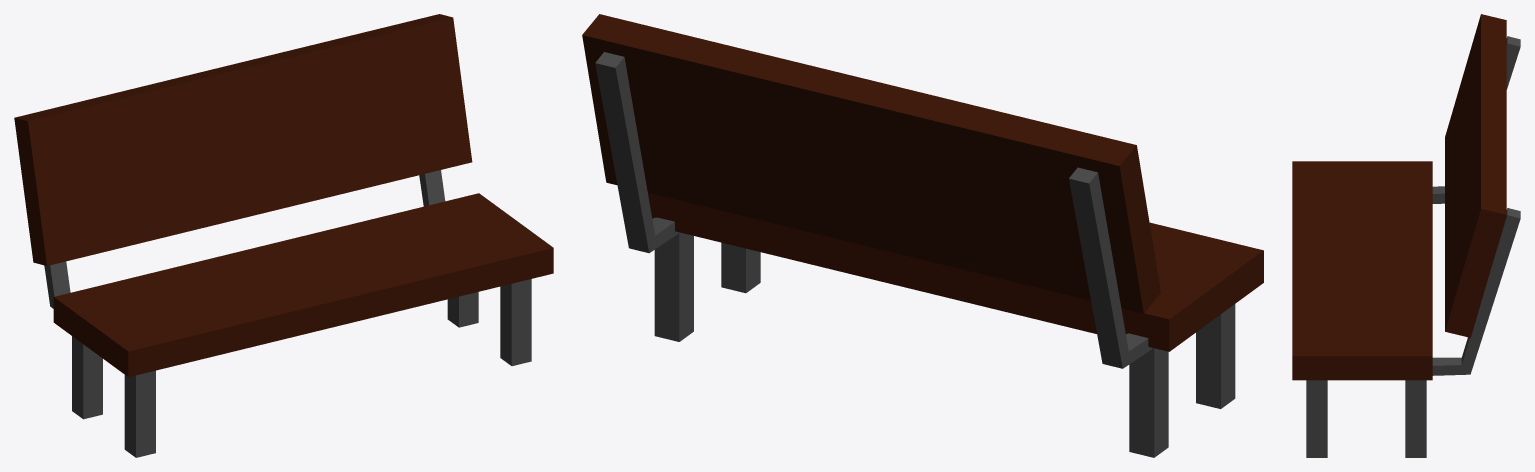
The model's file is Chair.fbx.
3 views of the same model, side by side, from view 1: azimuth 30°, elevation 25°; view 2: azimuth 150°, elevation 25°; view 3: azimuth 270°, elevation 25° (orthographic). The views are drawn at different scales.
Parts seen in each view (by area): view 1: Chair; view 2: Chair; view 3: Chair.
Boxes of the visible parts, x1=… form: Chair: x1=14, y1=14, x2=553, y2=457; Chair: x1=582, y1=14, x2=1263, y2=457; Chair: x1=1292, y1=14, x2=1520, y2=457.
Size of the model in its own units: 200 by 122 by 99.05.
